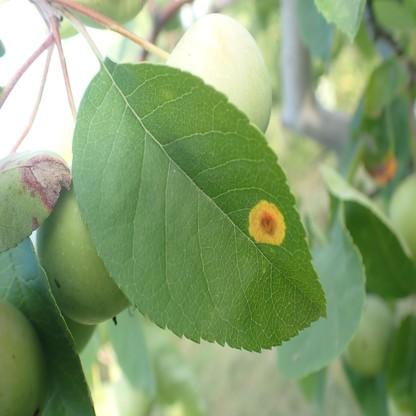rust: (248, 202, 285, 245), (367, 152, 398, 183)
